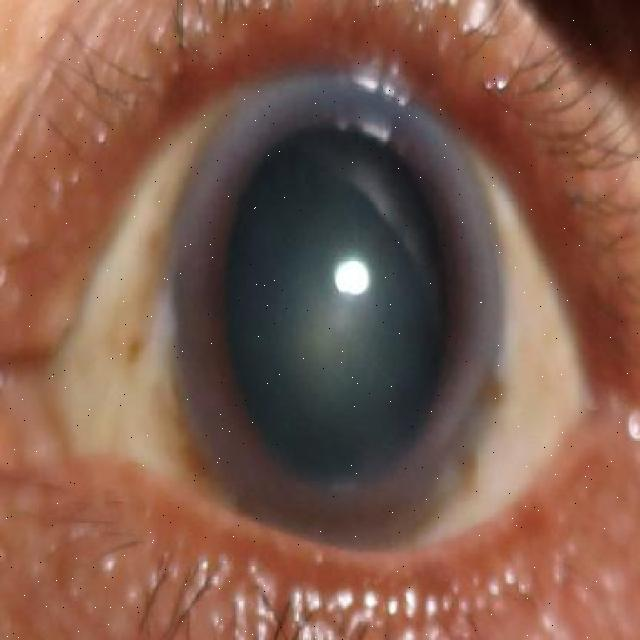Cataract: (164, 67, 506, 564)
